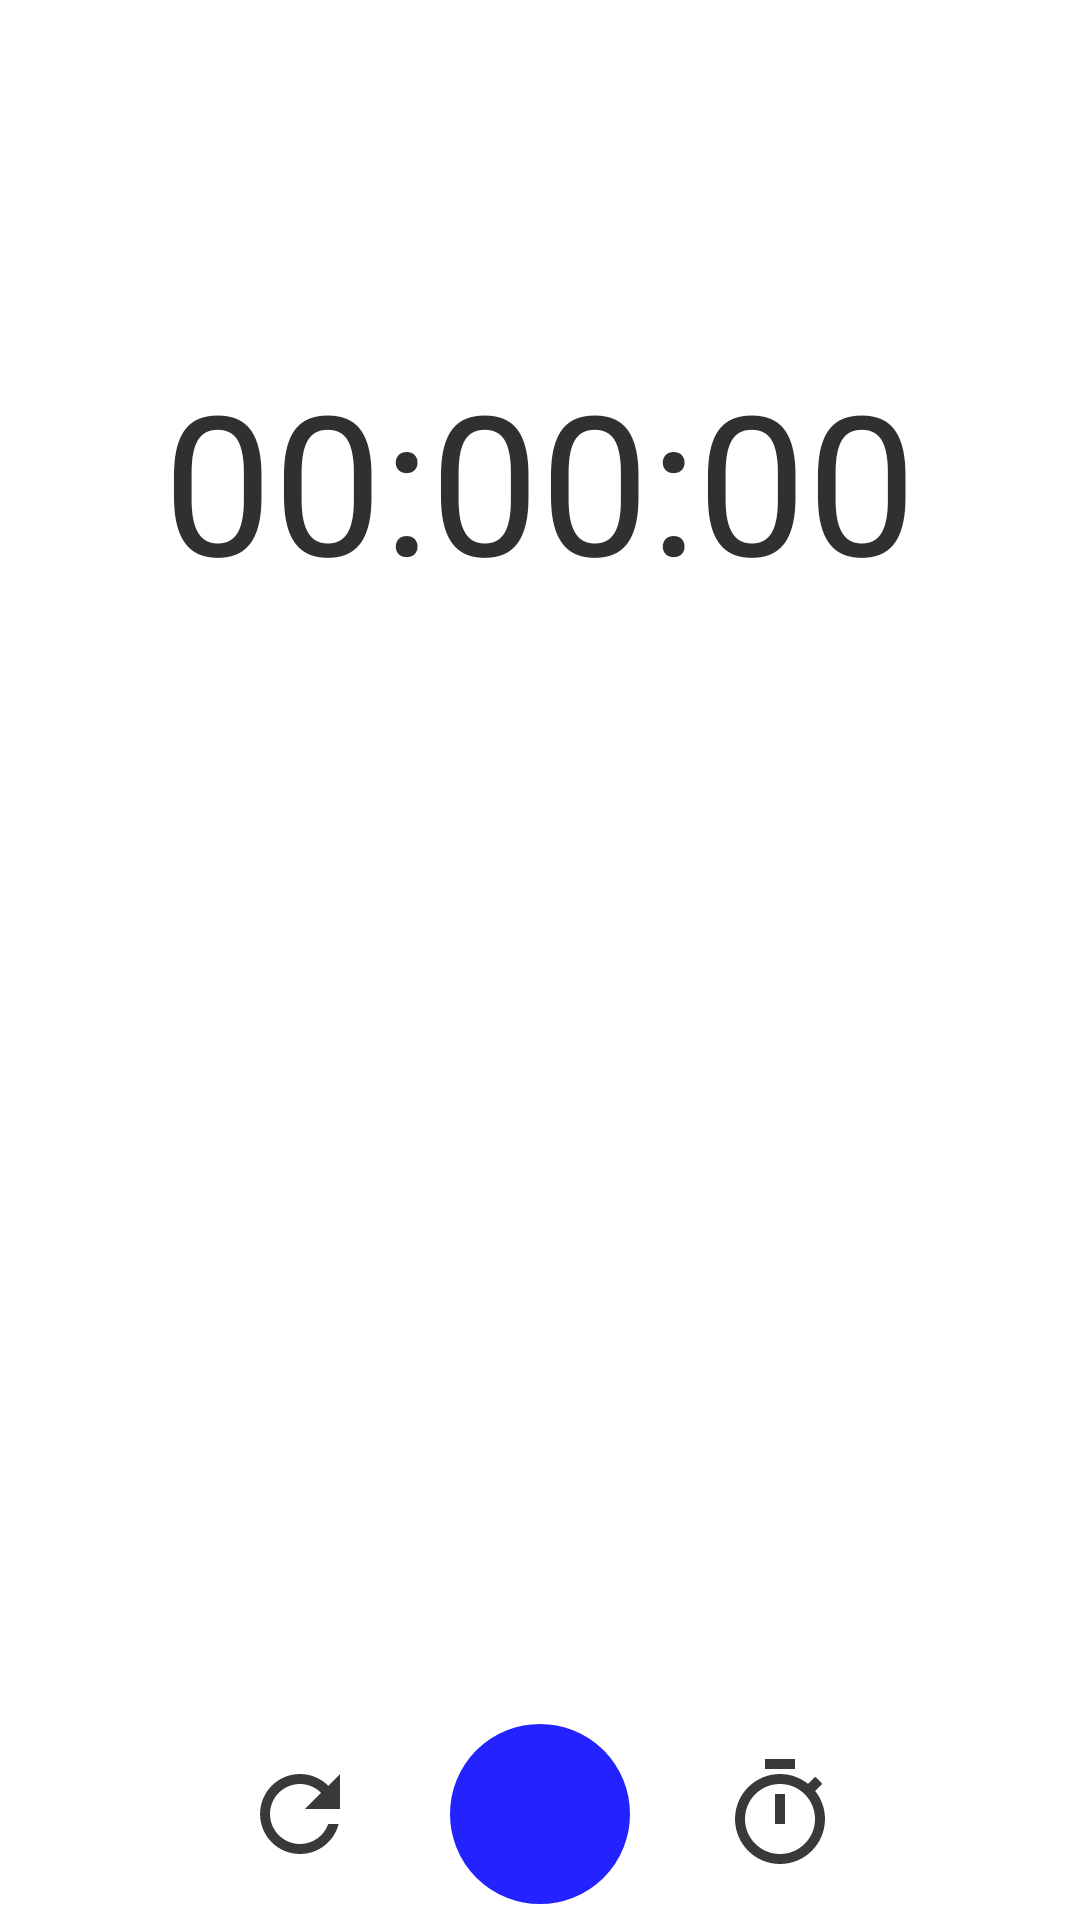

Where icons sit on this 1080px×1920px app screen, as (x1, y1, x2, y2):
reset: (260, 1774, 340, 1854)
timer stopwatch: (735, 1759, 825, 1864)
